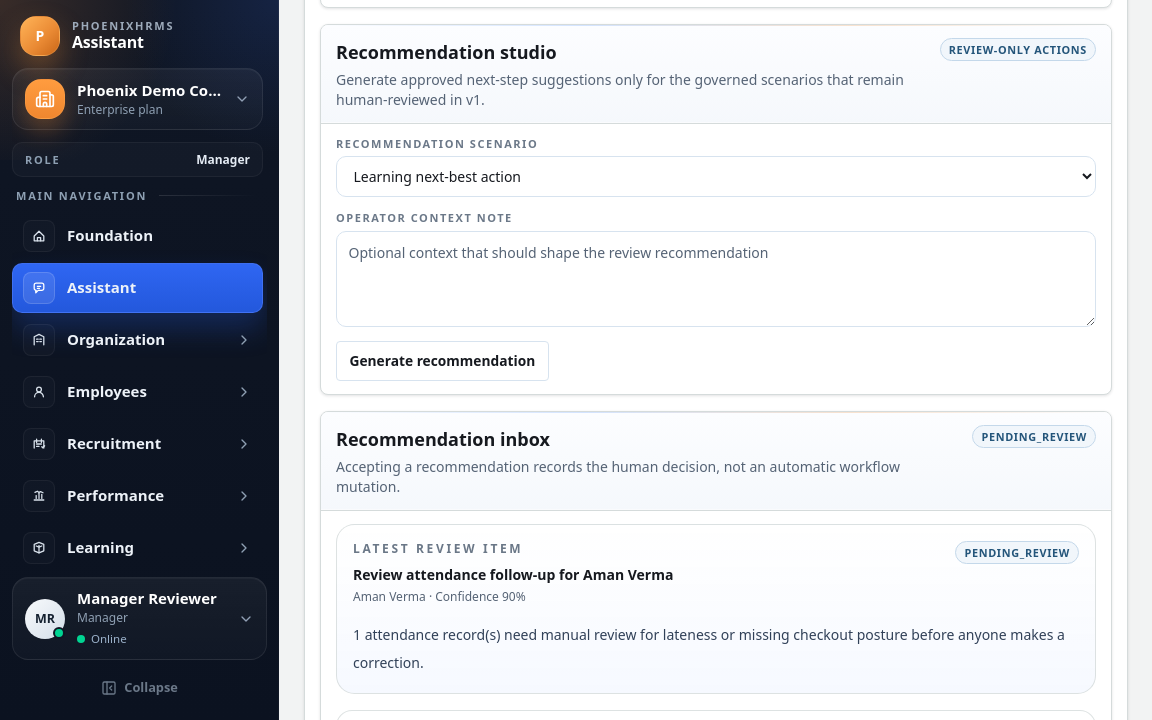
Test case: AssistantPage › lets a manager generate and accept a review-only recommendation in demo mode
(page scrolled)
Click the button "Generate recommendation": (442,361) x1=336 y1=341 x2=549 y2=381
(page scrolled)
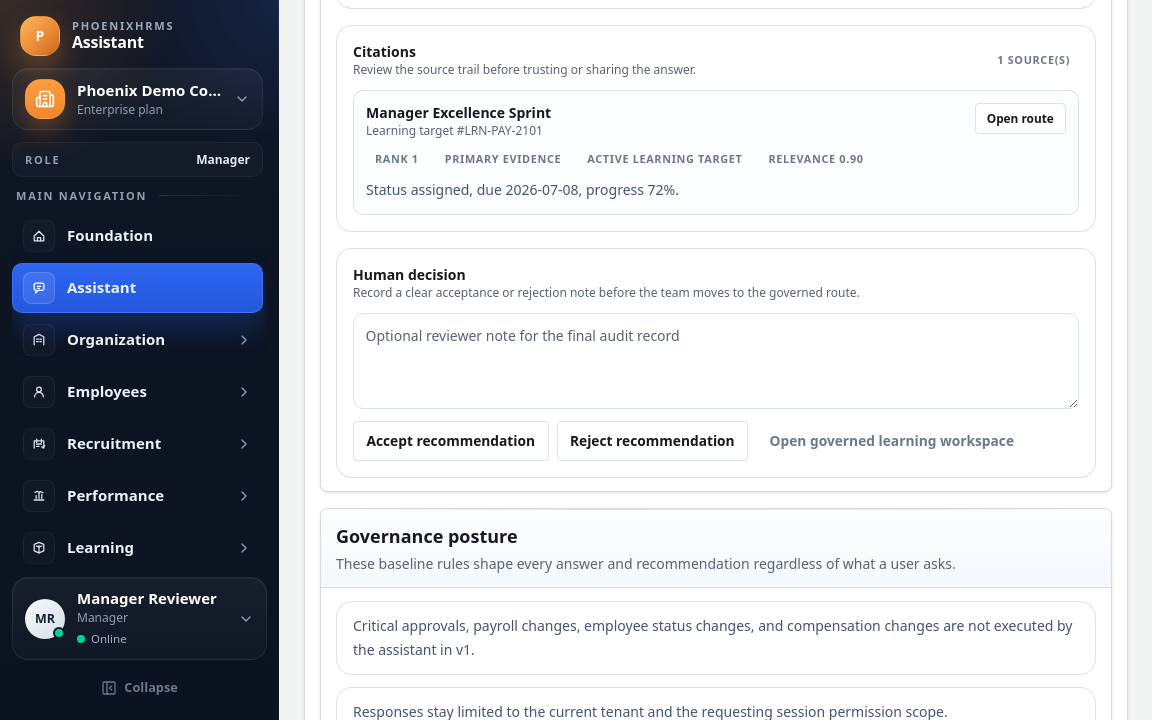
In the text box named "decision notes for recommendation": (716,361) x1=353 y1=313 x2=1079 y2=409, type "Manager reviewed the recommendation and will follow the governed route."
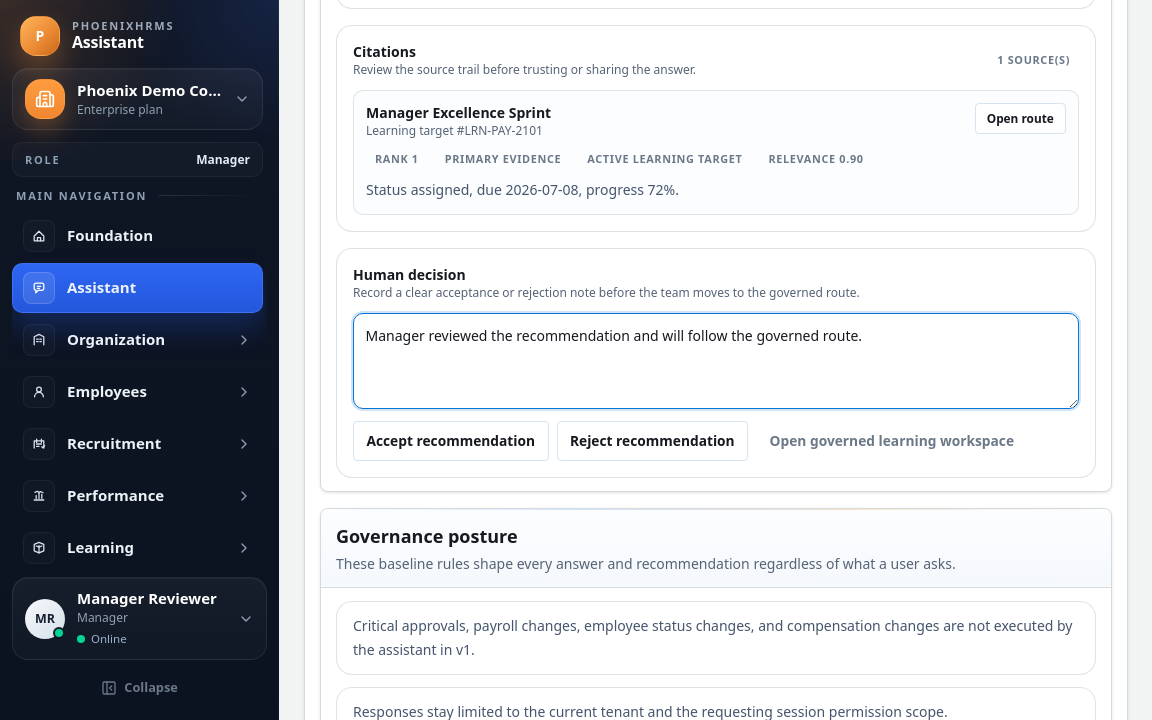
Click the button "Accept recommendation": (451,441) x1=353 y1=421 x2=548 y2=461
(page scrolled)
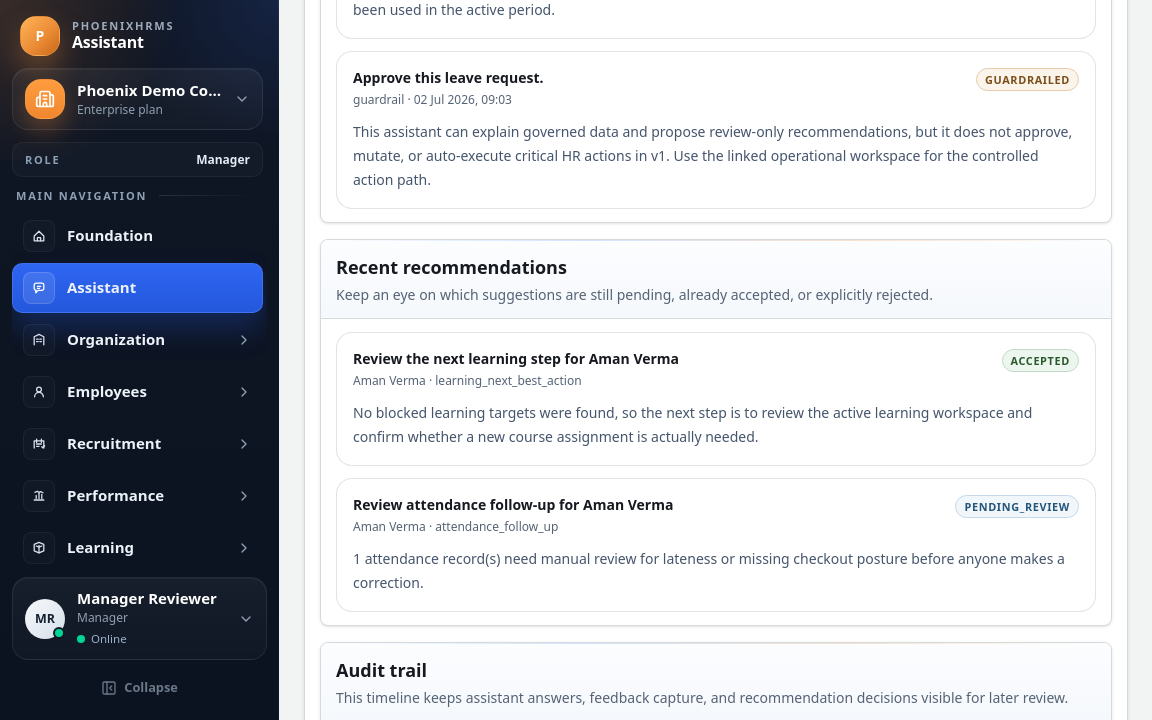
Expected: the text "accepted" is shown, x1=1002 y1=349 x2=1079 y2=372
